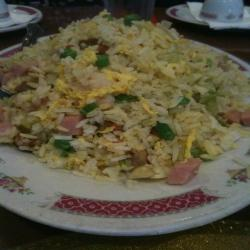rice: (14, 22, 226, 183)
